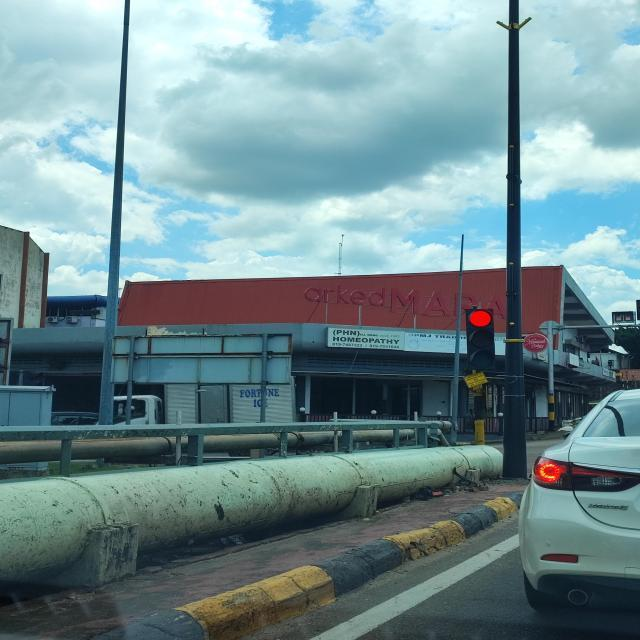red_light: (466, 308, 494, 371)
